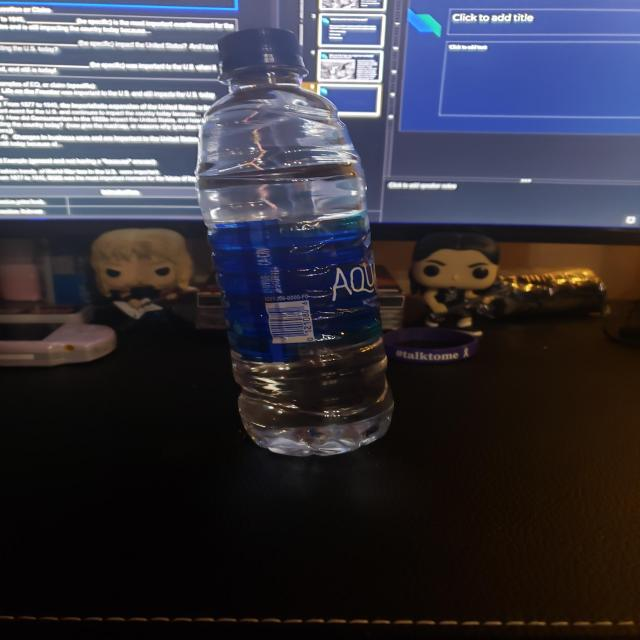bottle: (195, 31, 394, 456)
